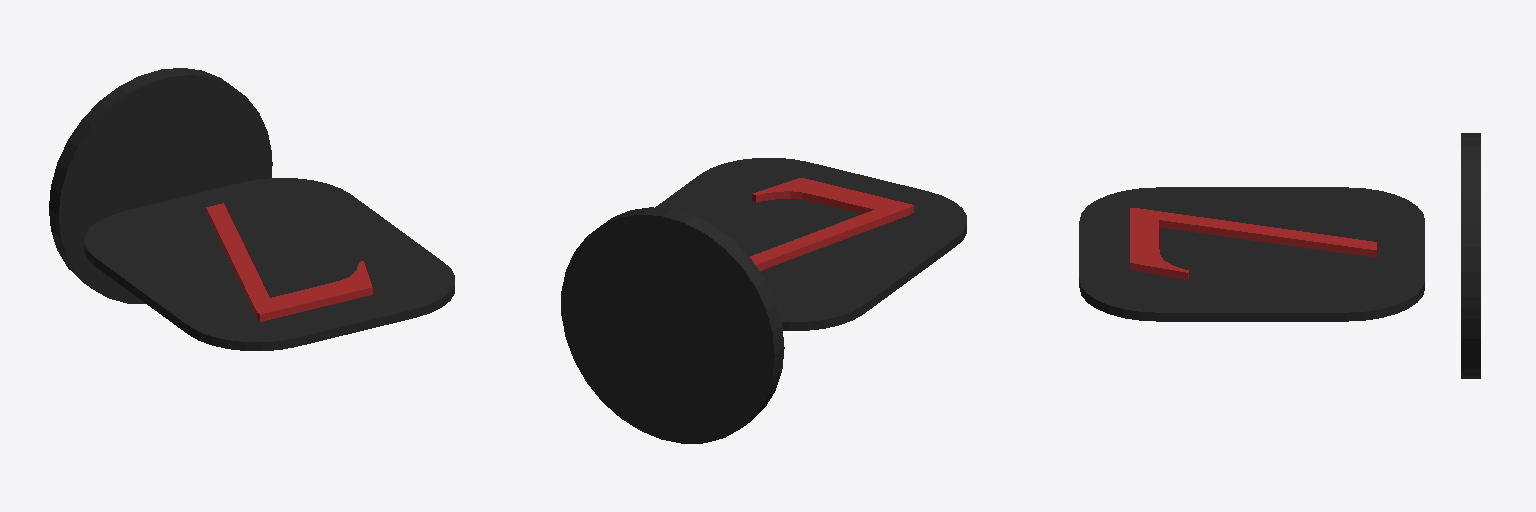
3 renders of one model, left to right at view 1: azimuth 30°, elevation 25°; view 2: azimuth 150°, elevation 25°; view 3: azimuth 270°, elevation 25°, orthographic.
Parts seen in each view (by area): view 1: ART_GS[number redacted]_A; view 2: ART_GS[number redacted]_A; view 3: ART_GS[number redacted]_A.
Part boxes in pixels (x1,y1,x2,y2): ART_GS[number redacted]_A: (49, 68, 454, 350); ART_GS[number redacted]_A: (561, 158, 966, 443); ART_GS[number redacted]_A: (1079, 133, 1480, 378).
Size of the model in its own units: 0.45 by 0.3745 by 0.6088.